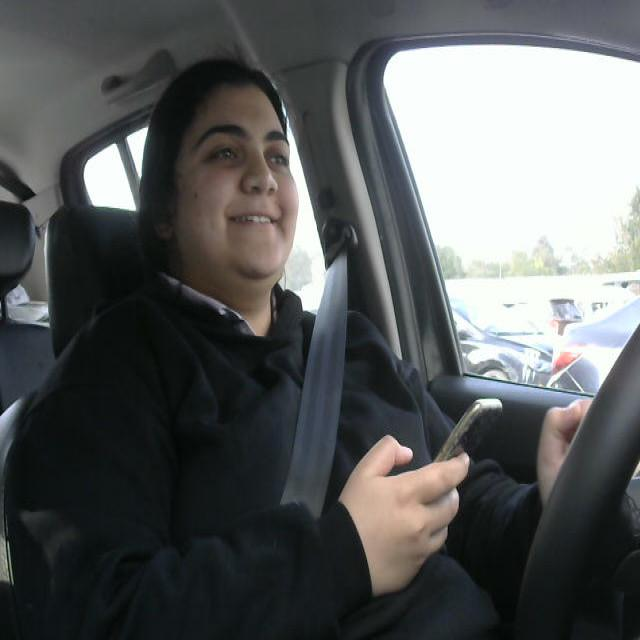mobile use: (414, 387, 510, 504)
